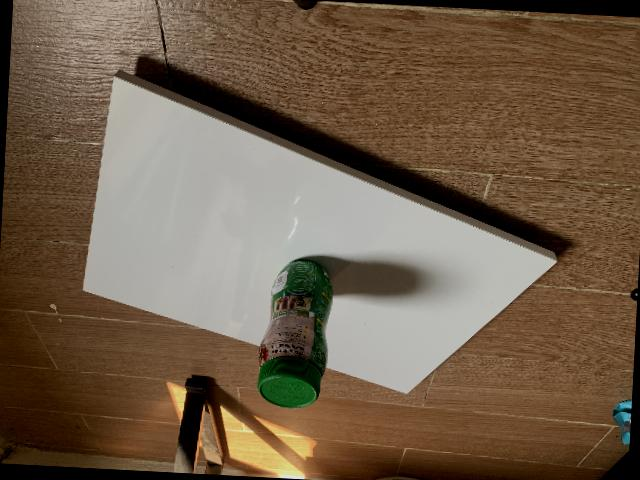milo: (256, 259, 333, 407)
